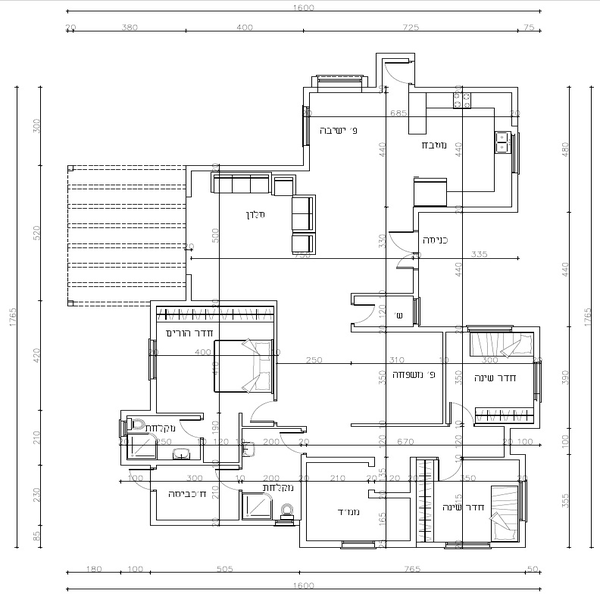door: (389, 224, 422, 268), (246, 400, 286, 427), (214, 467, 250, 494), (349, 296, 381, 324), (387, 58, 417, 86), (277, 433, 313, 456), (436, 456, 464, 485), (449, 402, 479, 423), (179, 419, 207, 439)
room: (293, 77, 521, 214), (118, 411, 304, 534), (143, 294, 287, 426), (396, 455, 531, 554), (294, 451, 410, 552)
wall: (299, 456, 317, 552), (151, 518, 278, 530), (148, 297, 284, 308), (349, 419, 445, 433), (270, 305, 283, 402), (407, 461, 422, 545), (303, 453, 377, 470), (438, 328, 450, 427), (351, 326, 467, 335), (187, 166, 314, 174), (303, 85, 383, 97), (128, 458, 206, 470), (147, 484, 162, 533), (420, 88, 517, 95), (369, 487, 411, 503), (410, 208, 519, 214), (377, 49, 419, 64), (236, 414, 247, 466), (350, 291, 411, 300), (479, 419, 547, 426), (530, 334, 542, 364), (121, 407, 148, 420), (382, 537, 405, 552), (496, 540, 526, 551), (511, 173, 521, 206), (502, 432, 513, 460), (149, 375, 157, 413), (411, 273, 423, 295), (516, 326, 542, 335), (517, 456, 525, 481), (122, 442, 130, 464)
window: (299, 104, 317, 151), (507, 127, 523, 167), (342, 537, 378, 551), (148, 338, 160, 374)
